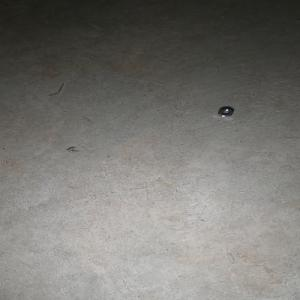Nut: (217, 106, 235, 117)
